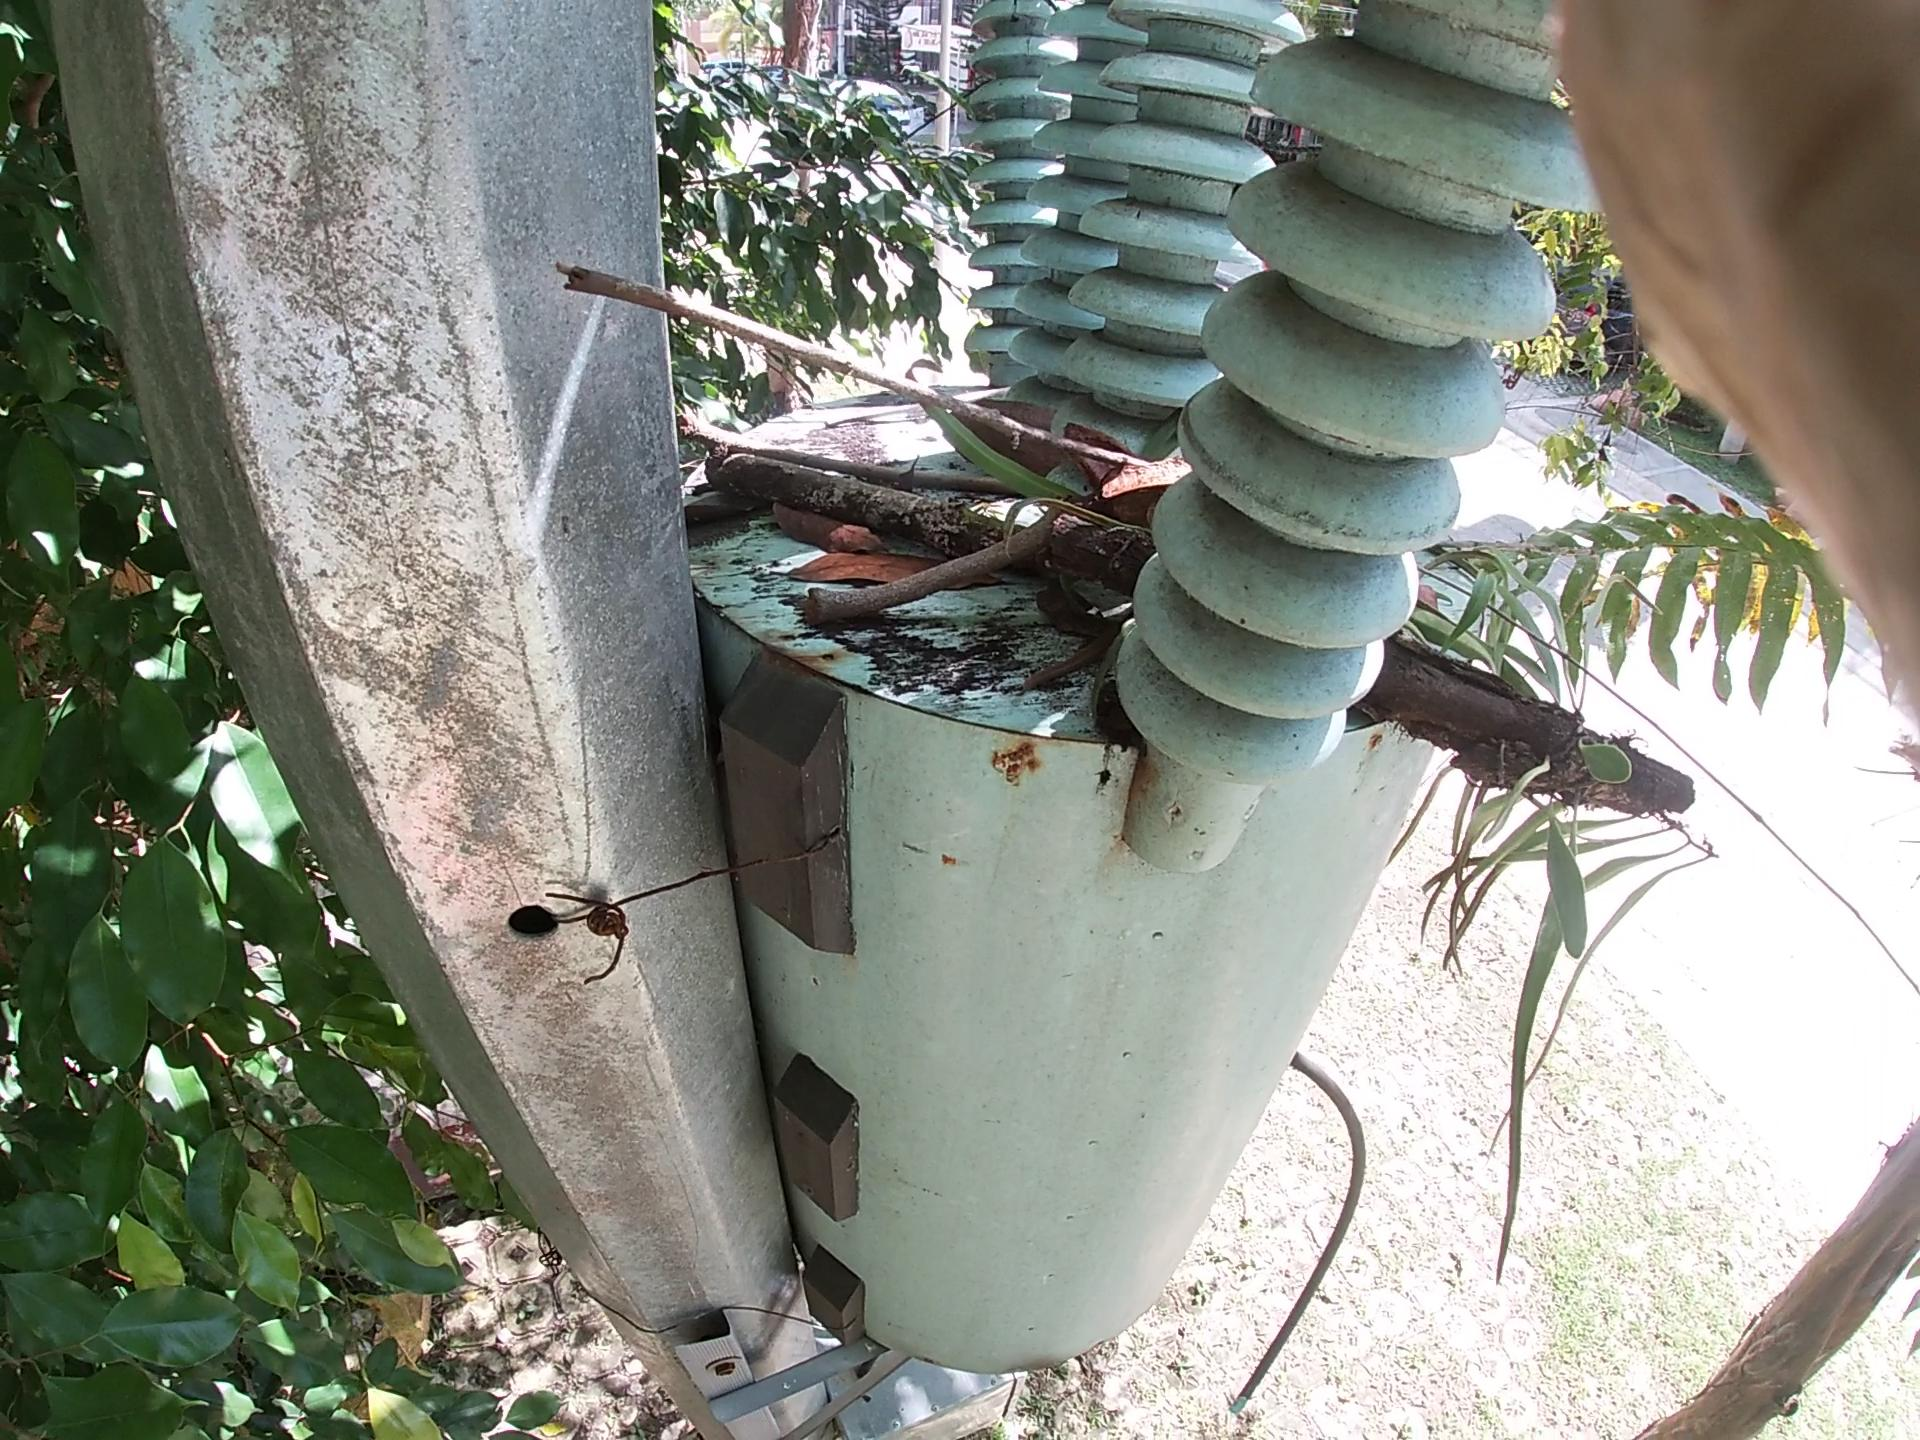branch with leaves: (700, 443, 1702, 843)
leaf: (780, 551, 998, 594), (773, 492, 881, 551)
mahogany fruit: (963, 389, 1231, 526)
tree branch: (556, 259, 1178, 514), (670, 405, 1042, 508), (788, 514, 1105, 620)
